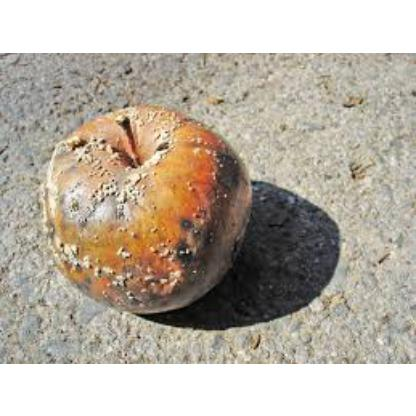damaged_apple: (37, 104, 250, 306)
